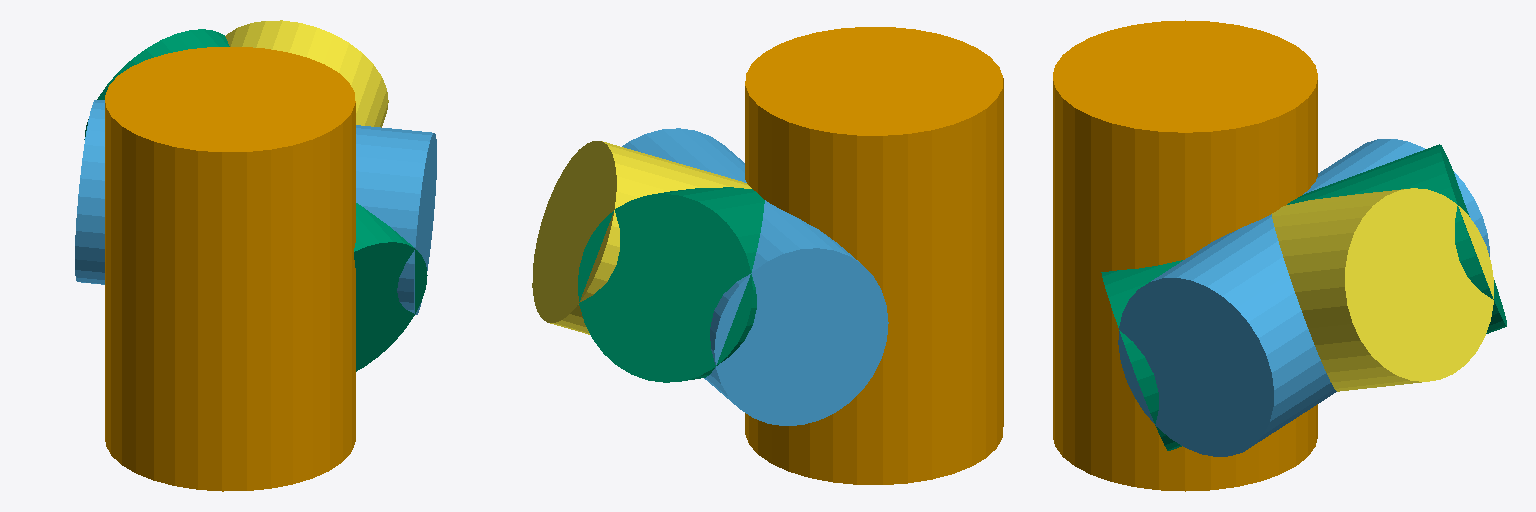
The robot description file, URDF, robot "pepe":
<?xml version="1.0"?><robot name="pepe">
	<link name="0">
		<visual>
			<geometry>
				<cylinder length="2.9780468539074367" radius="0.9999"/>
			</geometry>
		</visual>
		<collision>
			<geometry>
				<cylinder length="2.9780468539074367" radius="0.9999"/>
			</geometry>
		</collision>
		<inertial>
			<mass value="9.353939049816244"/>
			<inertia ixx="0.03" iyy="0.03" izz="0.03" ixy="0" ixz="0" iyx="0"/>
		</inertial>
	</link>
	<link name="11">
		<visual>
			<geometry>
				<cylinder length="2.719553306566765" radius="0.7321638812847877"/>
			</geometry>
		</visual>
		<collision>
			<geometry>
				<cylinder length="2.719553306566765" radius="0.7321638812847877"/>
			</geometry>
		</collision>
		<inertial>
			<mass value="4.5799849406819115"/>
			<inertia ixx="0.03" iyy="0.03" izz="0.03" ixy="0" ixz="0" iyx="0"/>
		</inertial>
	</link>
	<link name="12">
		<visual>
			<geometry>
				<cylinder length="2.719553306566765" radius="0.7321638812847877"/>
			</geometry>
		</visual>
		<collision>
			<geometry>
				<cylinder length="2.719553306566765" radius="0.7321638812847877"/>
			</geometry>
		</collision>
		<inertial>
			<mass value="4.5799849406819115"/>
			<inertia ixx="0.03" iyy="0.03" izz="0.03" ixy="0" ixz="0" iyx="0"/>
		</inertial>
	</link>
	<link name="13">
		<visual>
			<geometry>
				<cylinder length="2.719553306566765" radius="0.7321638812847877"/>
			</geometry>
		</visual>
		<collision>
			<geometry>
				<cylinder length="2.719553306566765" radius="0.7321638812847877"/>
			</geometry>
		</collision>
		<inertial>
			<mass value="4.5799849406819115"/>
			<inertia ixx="0.03" iyy="0.03" izz="0.03" ixy="0" ixz="0" iyx="0"/>
		</inertial>
	</link>
	<joint name="11_to_0" type="revolute">
		<parent link="0"/>
		<child link="11"/>
		<axis xyz="0 1 0"/>
		<limit effort="1" upper="-3.1415" lower="3.1415" velocity="1"/>
		<origin rpy="10.864992486718366 4.299871399891143 1.0488365199178515" xyz="0.7524867466081934 0.8942135605056439 0.004269096795093241"/>
	</joint>
	<joint name="12_to_0" type="revolute">
		<parent link="0"/>
		<child link="12"/>
		<axis xyz="0 1 0"/>
		<limit effort="1" upper="-3.1415" lower="3.1415" velocity="1"/>
		<origin rpy="16.29748873007755 4.299871399891143 1.0488365199178515" xyz="0.7524867466081934 0.8942135605056439 0.004269096795093241"/>
	</joint>
	<joint name="13_to_0" type="revolute">
		<parent link="0"/>
		<child link="13"/>
		<axis xyz="0 1 0"/>
		<limit effort="1" upper="-3.1415" lower="3.1415" velocity="1"/>
		<origin rpy="21.729984973436732 4.299871399891143 1.0488365199178515" xyz="0.7524867466081934 0.8942135605056439 0.004269096795093241"/>
	</joint>
</robot>

--- Facts derived from the render (not from the file) ---
Views: 3 orthographic renders of the robot side by side, from view 1: azimuth 30°, elevation 25°; view 2: azimuth 150°, elevation 25°; view 3: azimuth 270°, elevation 25°.
Robot: pepe — 4 links, 3 joints (3 revolute); root link 0; default pose: all joints at 0.
Visible links, largest first — view 1: 0, 11, 12, 13; view 2: 0, 11, 12, 13; view 3: 0, 11, 13, 12.
Link boxes in pixels (x1,y1,x2,y2): 0: [105, 47, 355, 491]; 11: [75, 100, 436, 314]; 12: [84, 29, 427, 371]; 13: [225, 20, 388, 127]; 0: [745, 27, 1003, 484]; 11: [622, 128, 888, 425]; 12: [578, 187, 764, 382]; 13: [532, 141, 751, 334]; 0: [1053, 20, 1317, 491]; 11: [1118, 139, 1489, 456]; 13: [1272, 188, 1493, 391]; 12: [1101, 144, 1506, 450].
Bounding box of the posed robot: 3.28 × 3.42 × 2.98 m (x, y, z).
Geometry: primitives only (box / cylinder / sphere), no mesh files.
